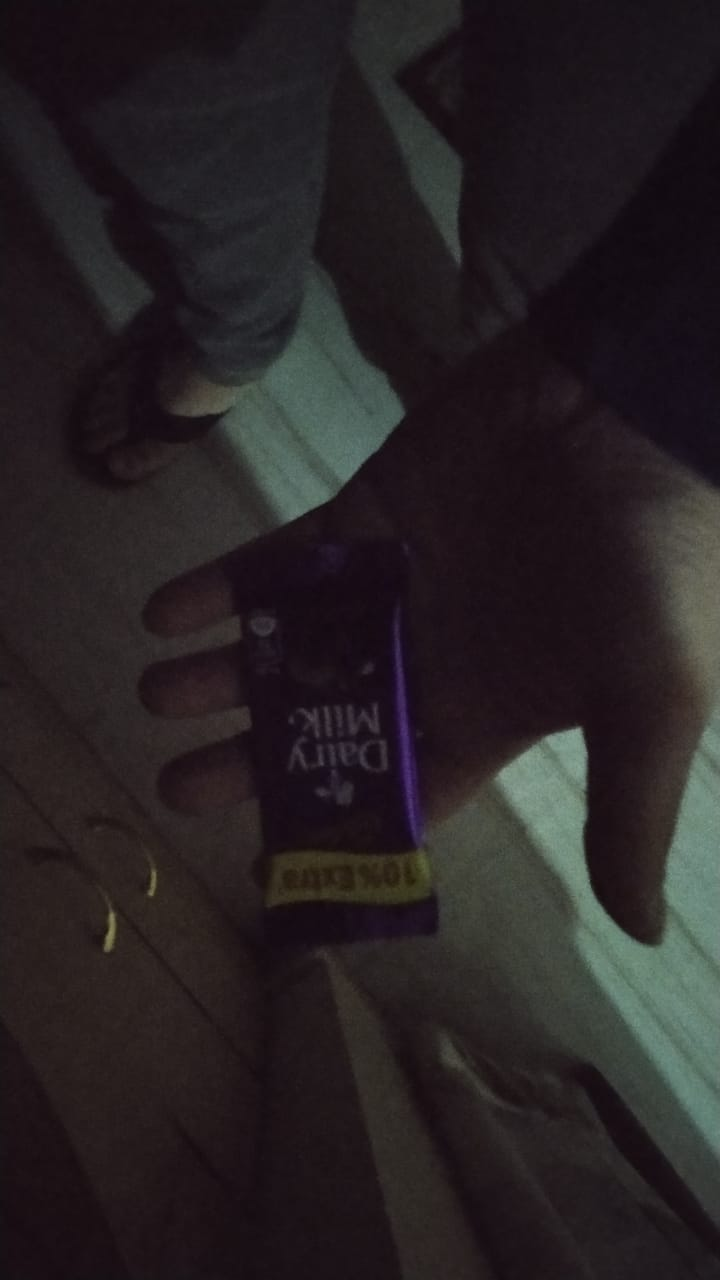dairy milk: (245, 610, 452, 957)
